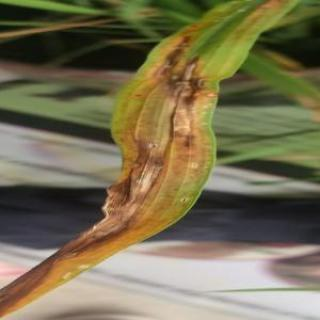Blast: (120, 92, 178, 205), (162, 38, 212, 126)
